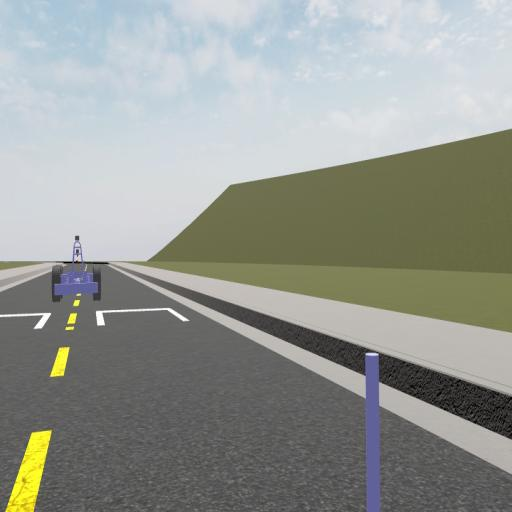ERP-42: (52, 234, 101, 302)
